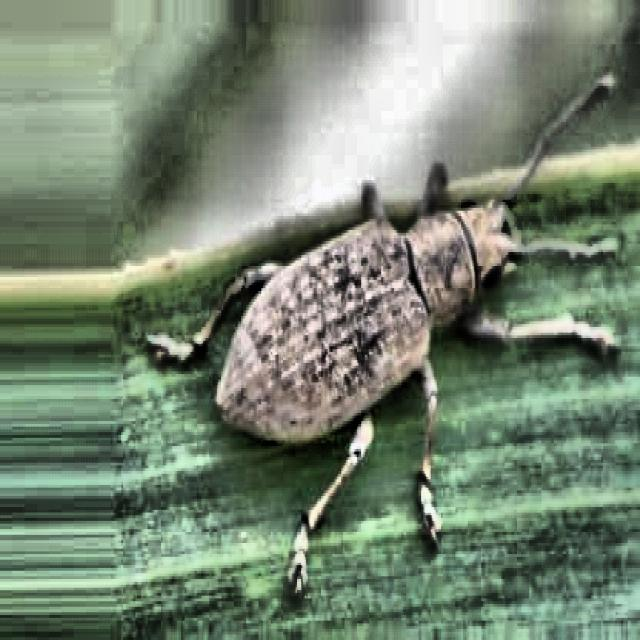Stink bug: (118, 125, 588, 520)
